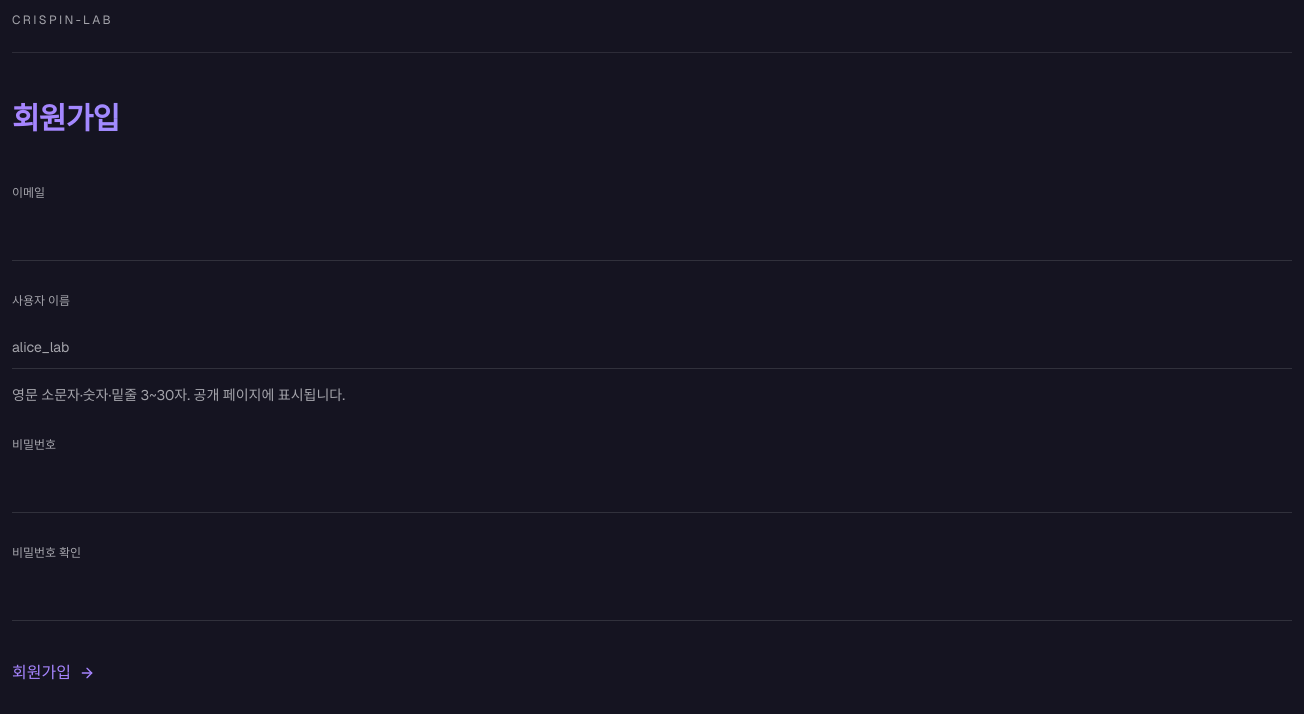
Test: SignupForm › Object.prototype key 를 code 로 보내도 inline 분기로 떨어지지 않고 root fallback 으로 흡수
Type "a@b.com" into the field labelled "이메일" at (652, 239), box [12,217,1292,261]
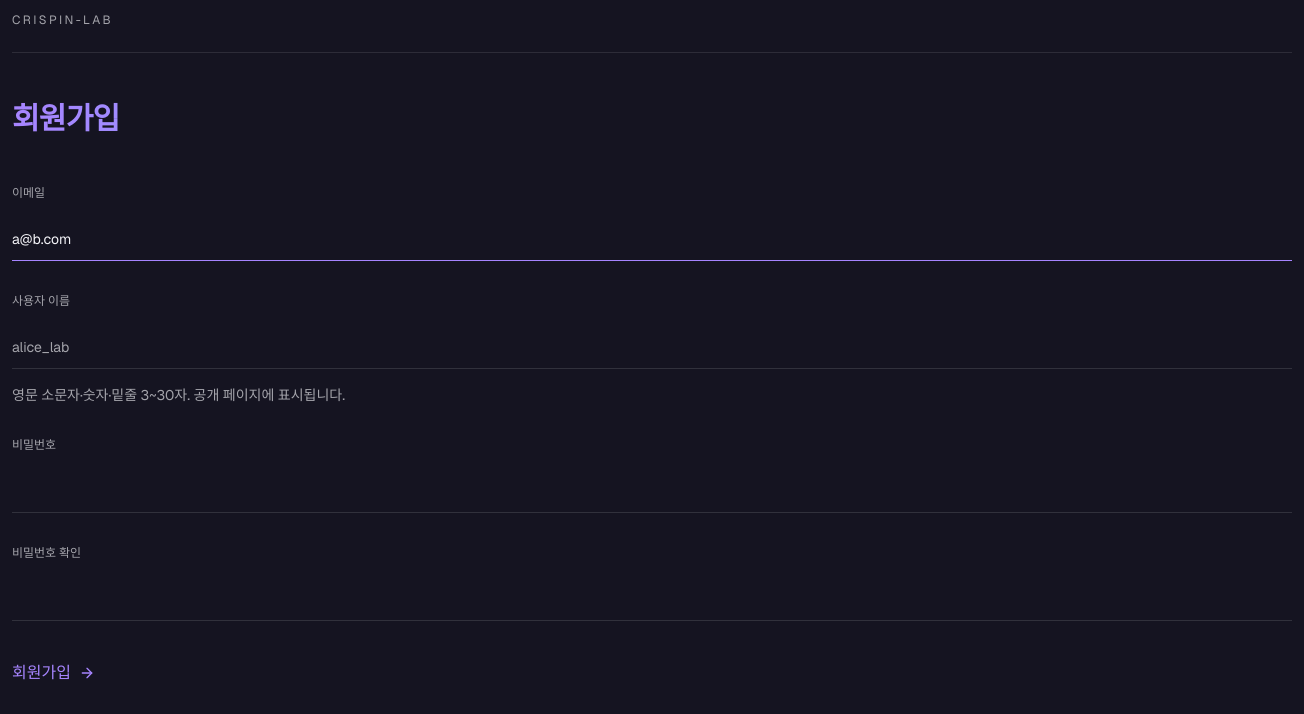
Type "alice" into the field labelled "사용자 이름" at (652, 347), box [12,325,1292,369]
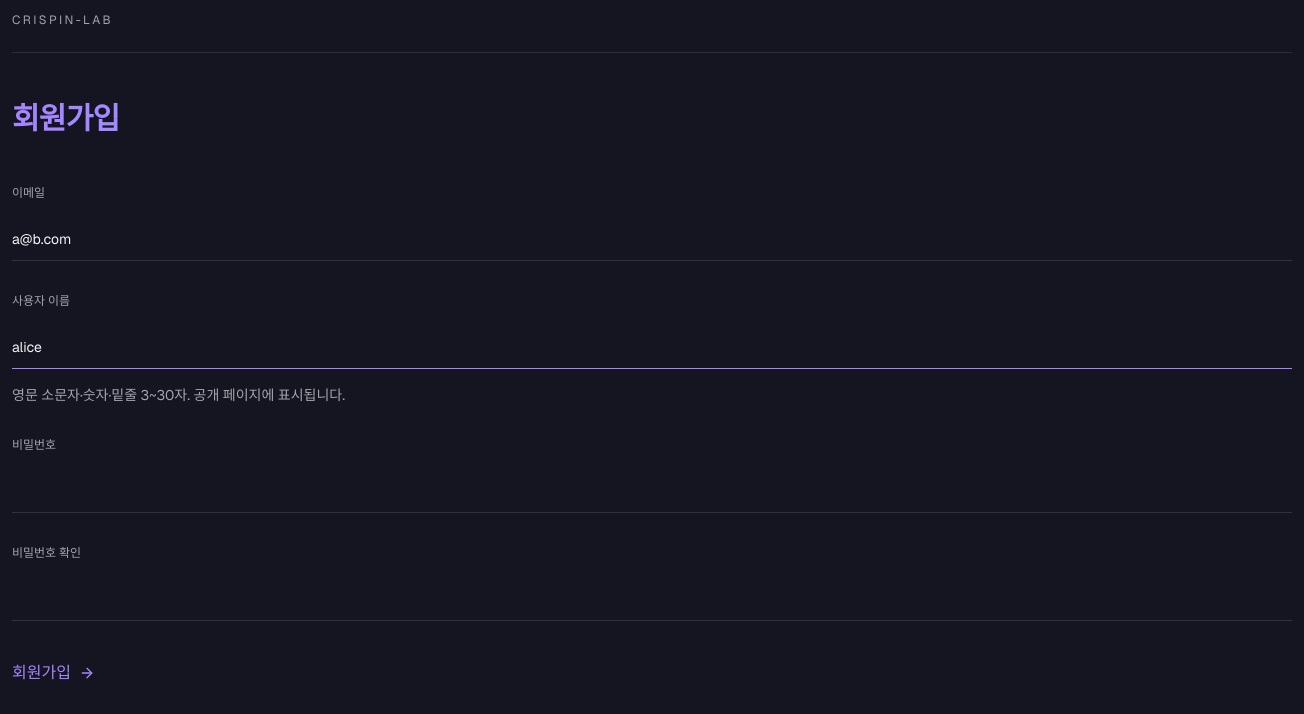
Type "password1" into the password field labelled "비밀번호" at (652, 491), box [12,469,1292,513]
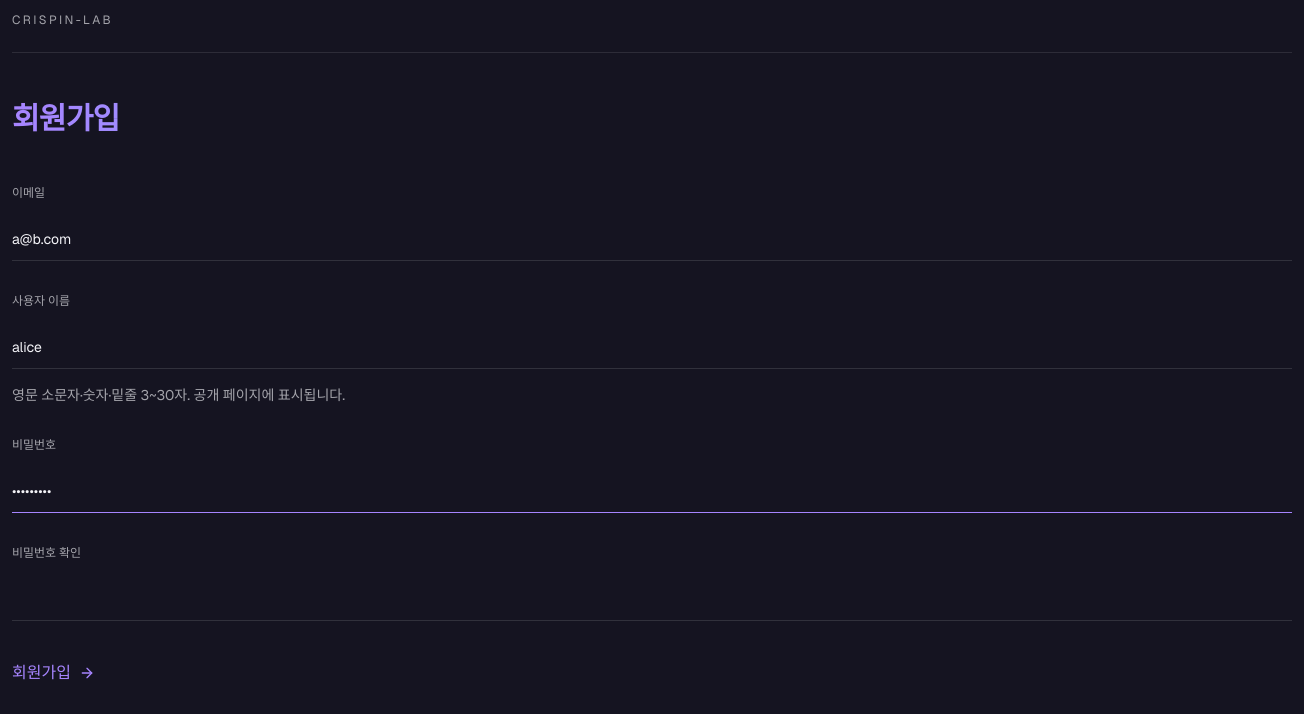
Type "password1" into the password field labelled "비밀번호 확인" at (652, 599), box [12,577,1292,621]
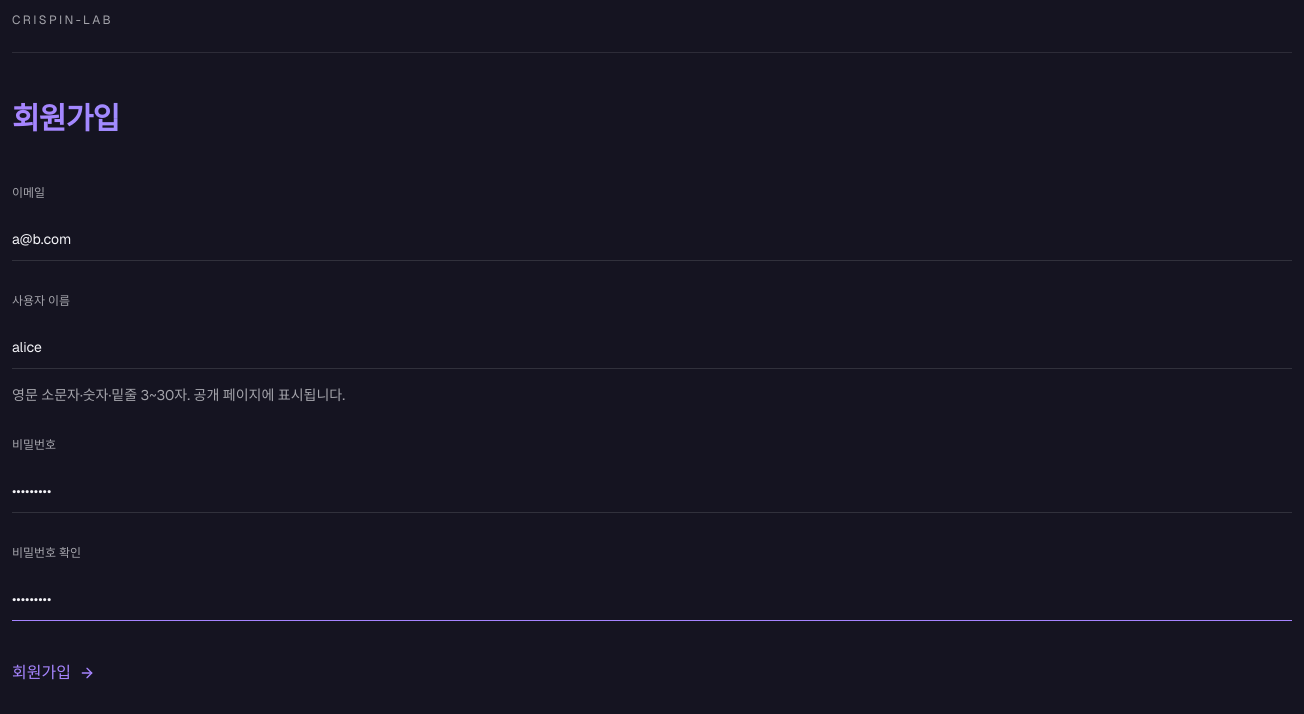
Click the button "회원가입" at (53, 673), box [12,661,95,685]
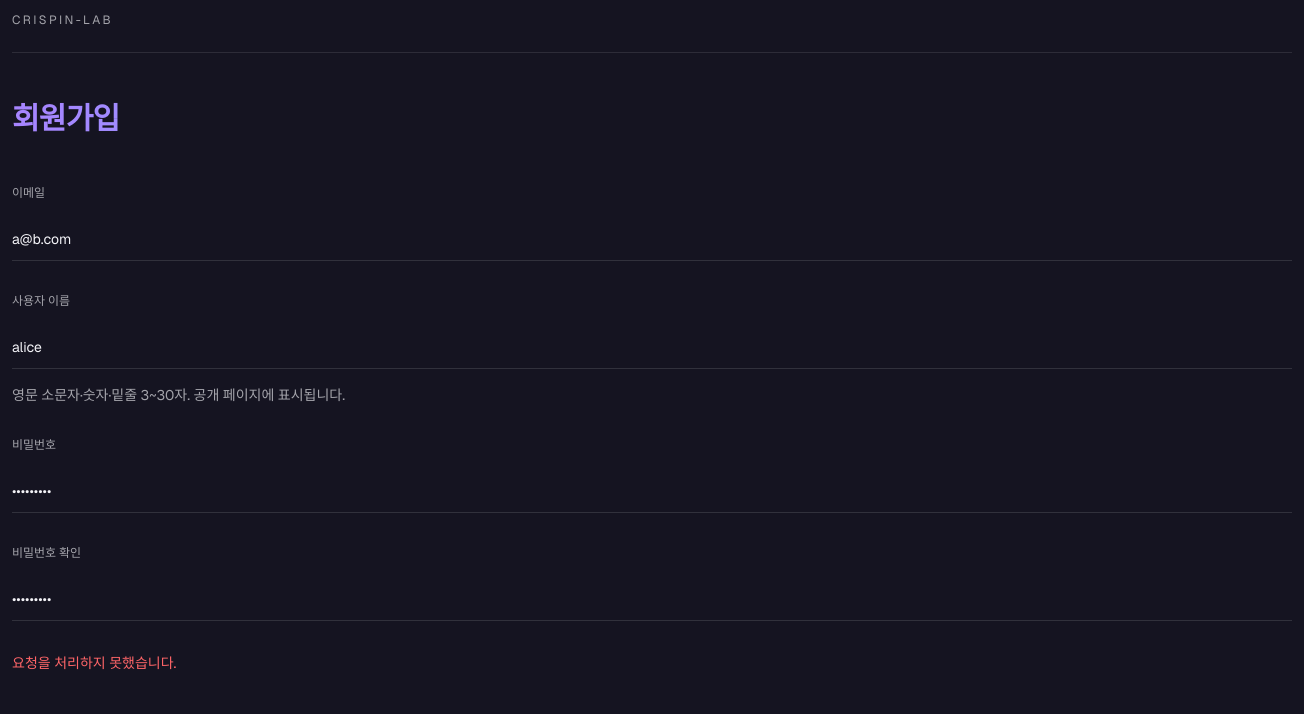
Result: the message reads "요청을 처리하지 못했습니다." at [12,654,176,672]
